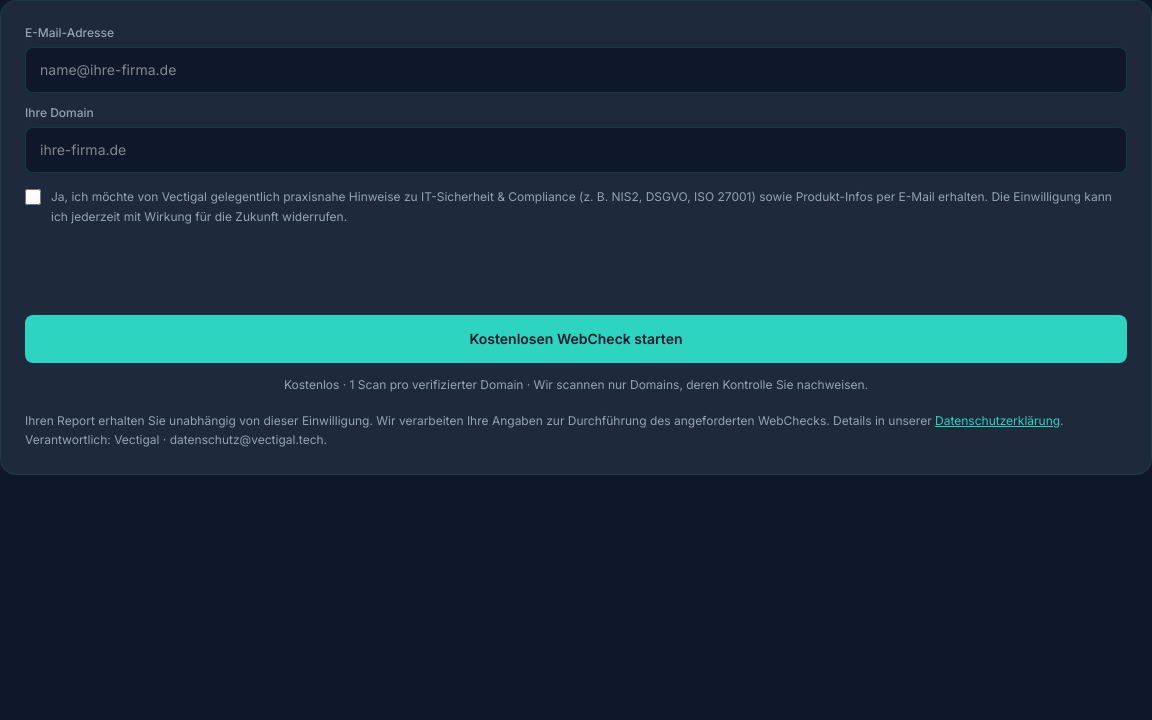
WebCheckFreeForm — Turnstile aktiv (VEC-189) › 403 captcha_failed → Widget-Reset + erneute Aufforderung
In the field labelled "E-Mail-Adresse": coordinates (576, 70) top-left (25, 47), bottom-right (1127, 93), type "k@firma.de"
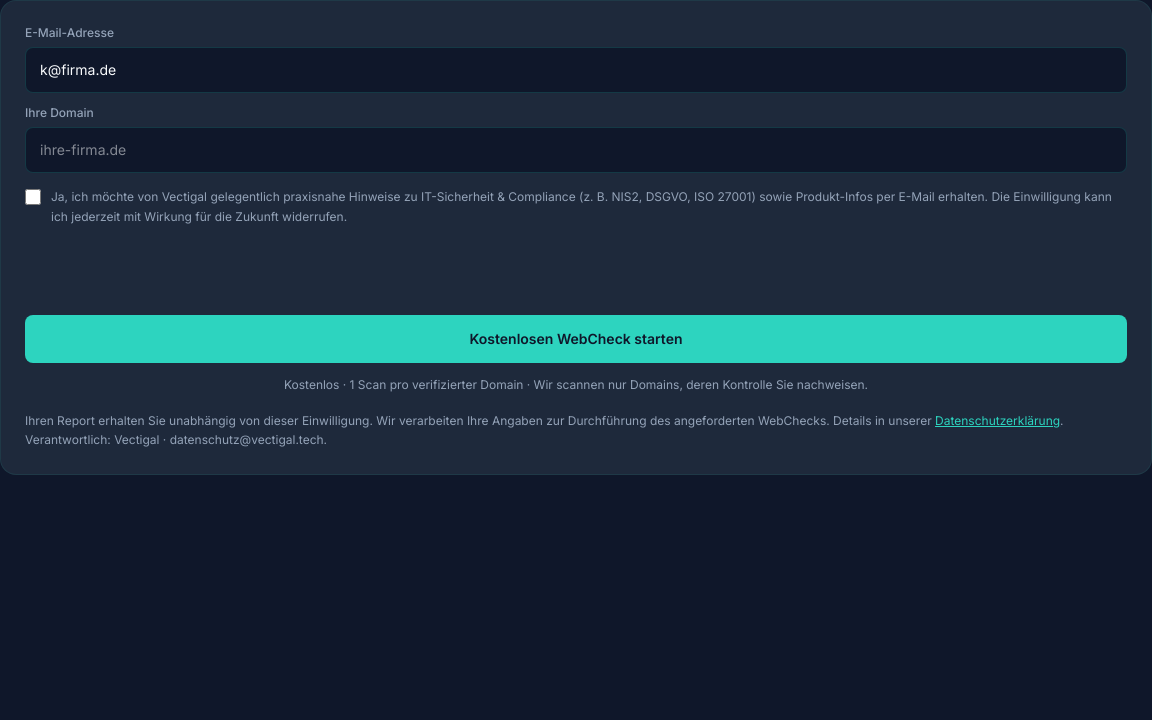
In the field labelled "Ihre Domain": coordinates (576, 150) top-left (25, 127), bottom-right (1127, 173), type "firma.de"
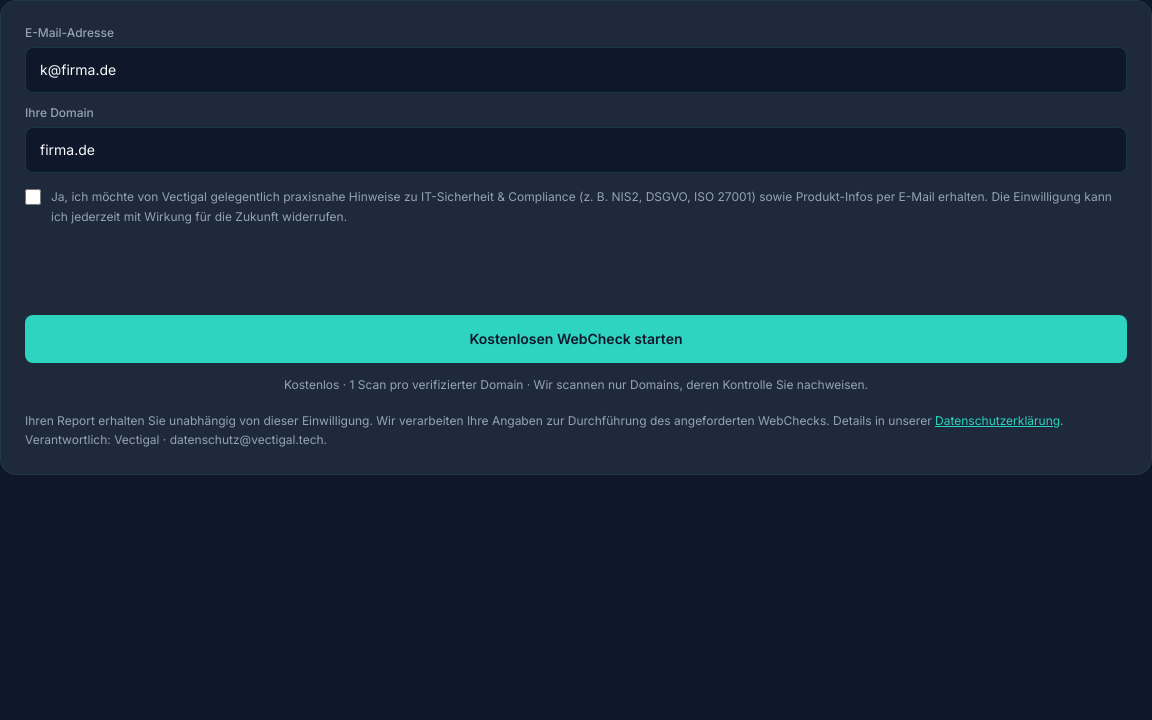
Click the button "Kostenlosen WebCheck starten": coordinates (576, 339) top-left (25, 315), bottom-right (1127, 363)
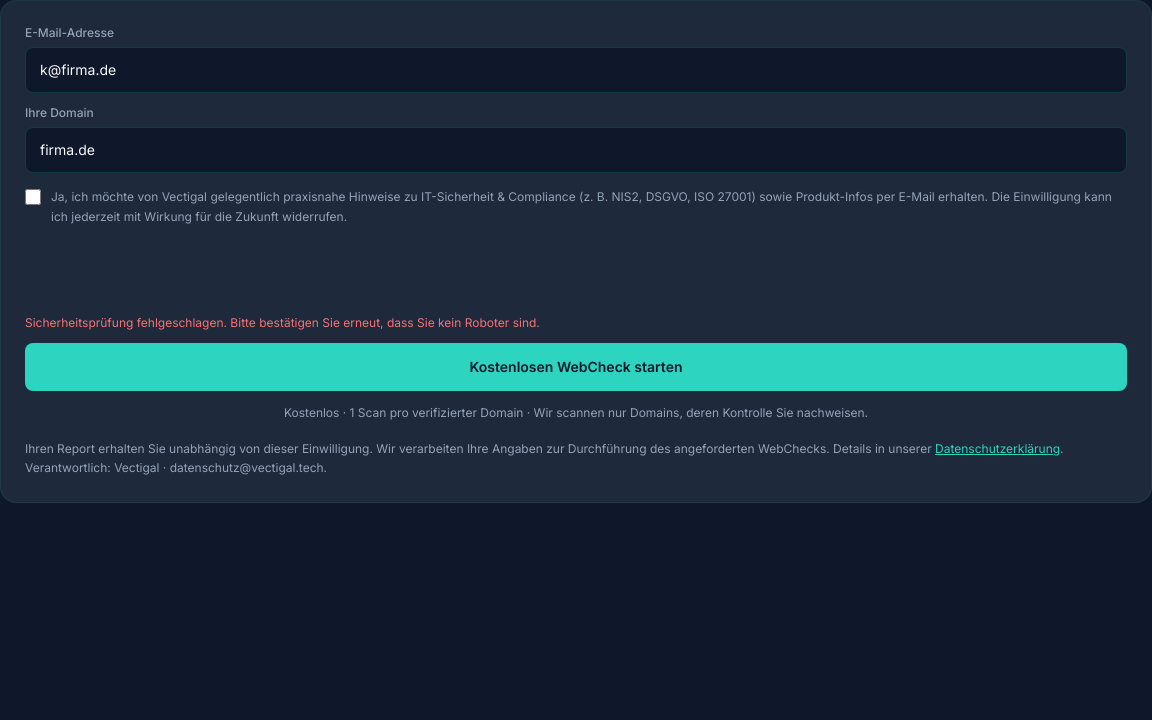
Check: the message shows "Sicherheitsprüfung fehlgeschlagen", box top-left (25, 315), bottom-right (540, 330)
